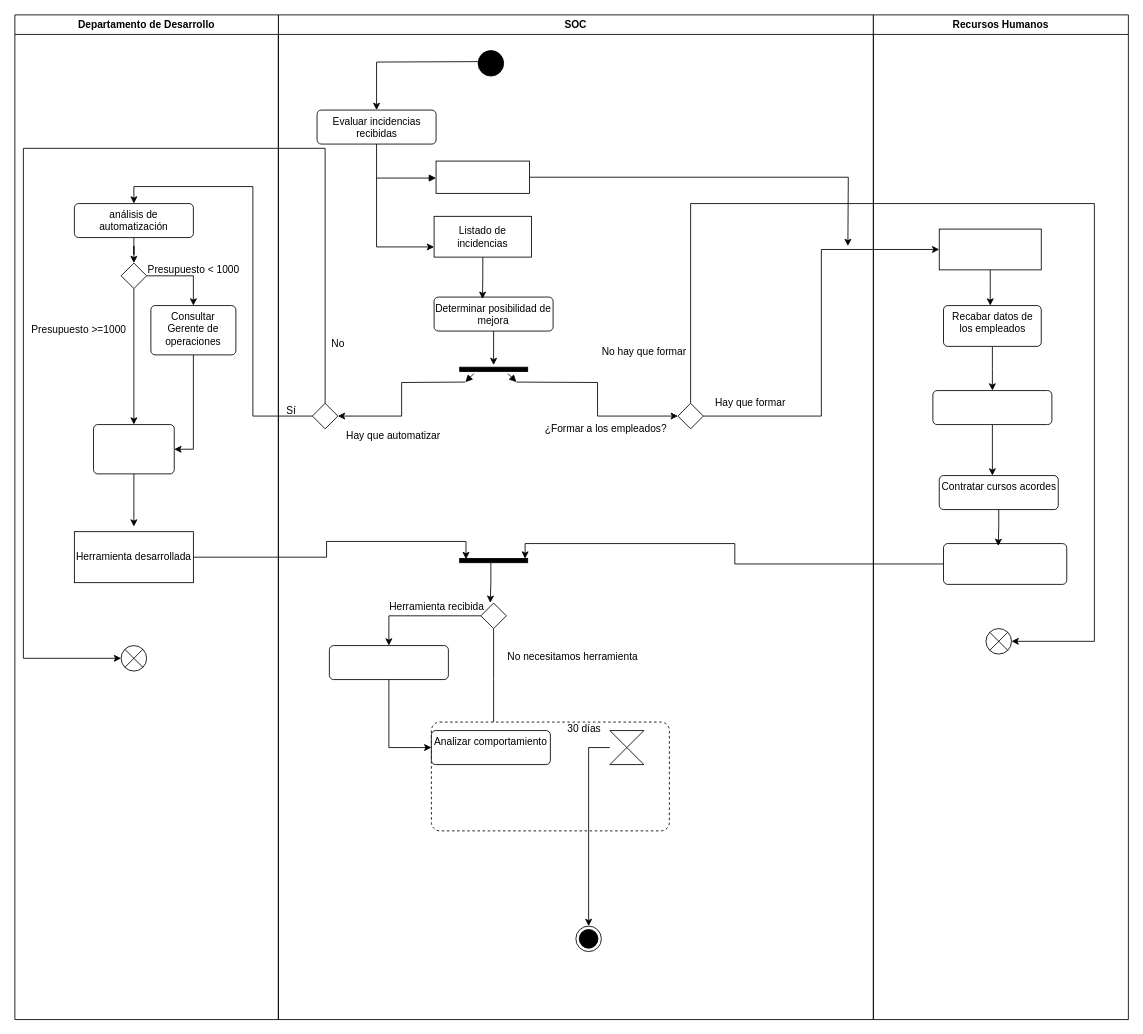
The diagram is 1143 pixels wide and 1034 high, and some of its shapes have lost their labels. The shapes that lost their labels are listed below. From the top down, each one's centre as x and y in pixels, then its label:
At (482,176): "Listado de empleados".
At (989,249): "Listado de empleados actualizado".
At (992,407): "Consultar catálogo de formación".
At (133,449): "Desarrollar herramienta".
At (1005,563): "Mandar listado empleados".
At (388,662): "Probar herramienta".
